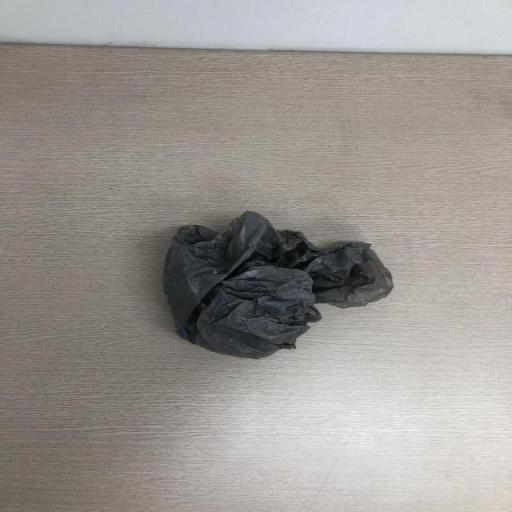plastic-bag: (159, 210, 398, 362)
